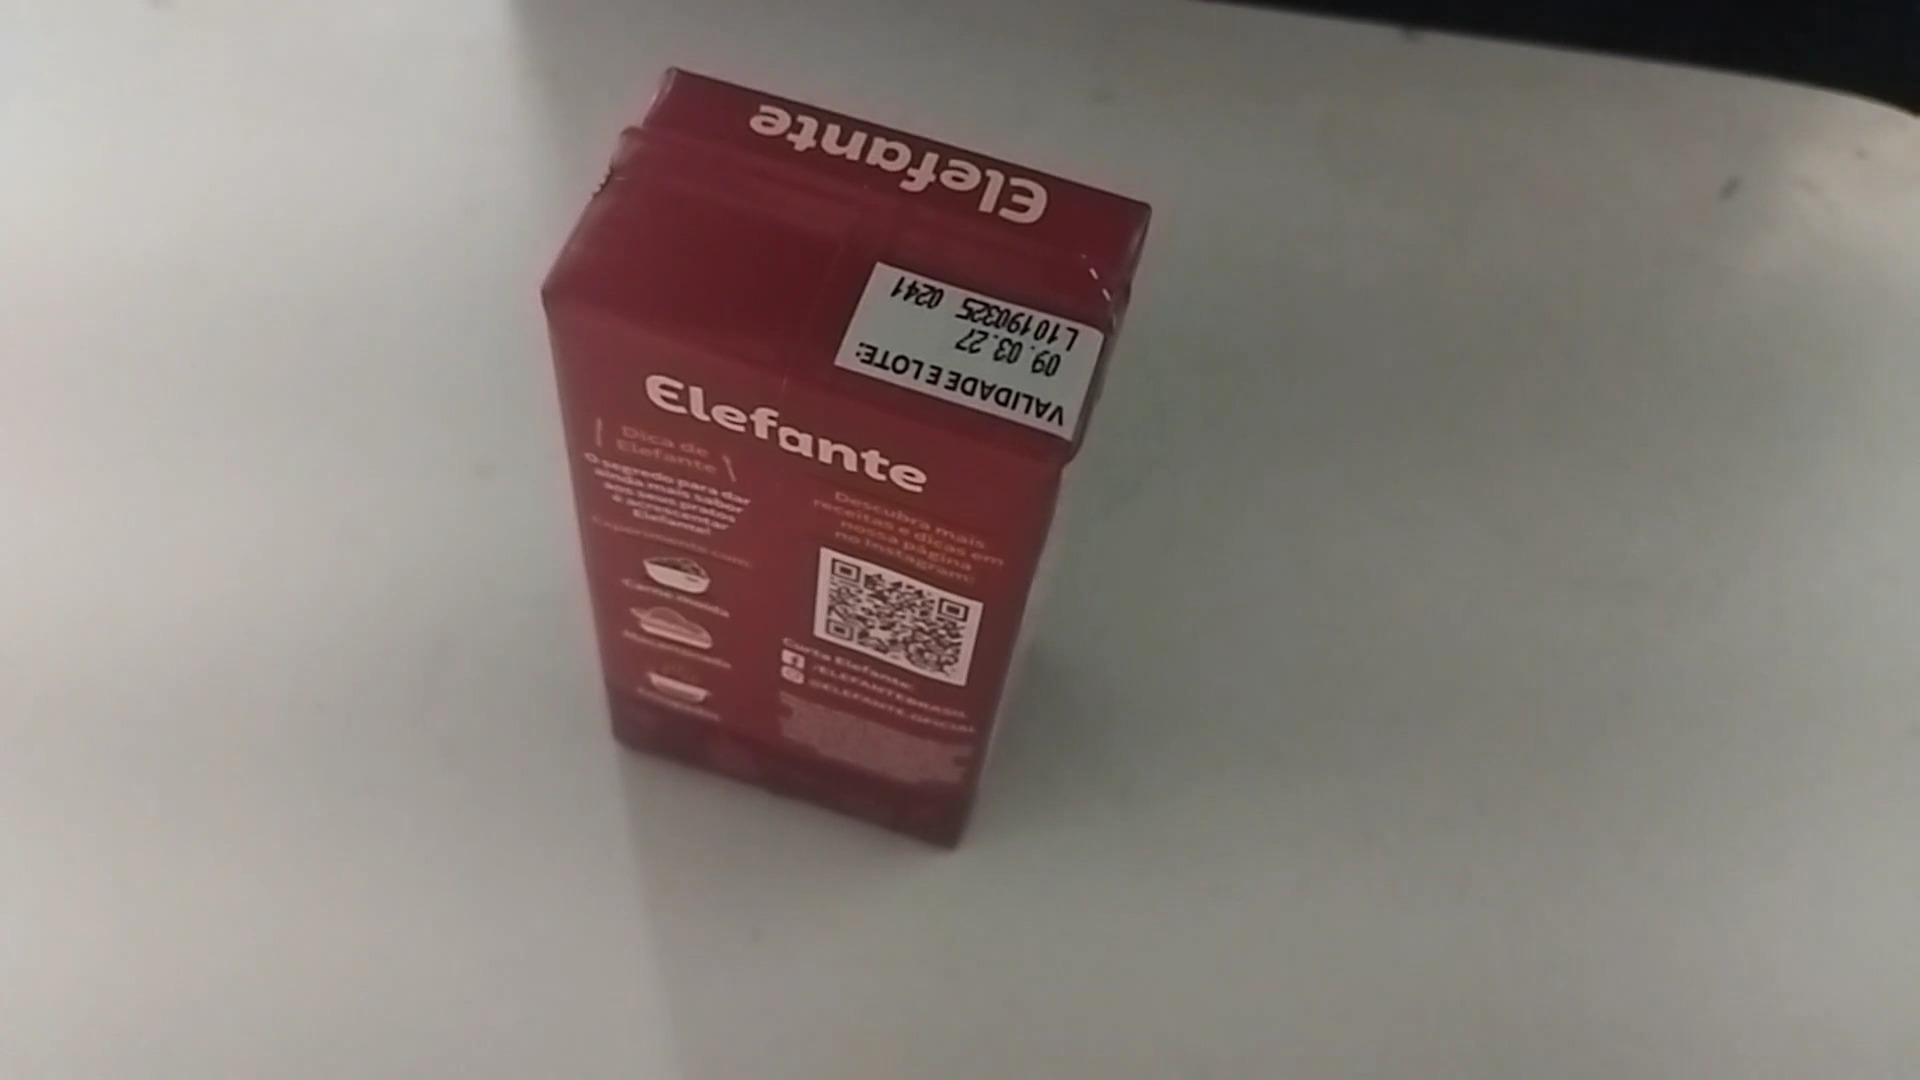tomate: (533, 70, 1168, 861)
